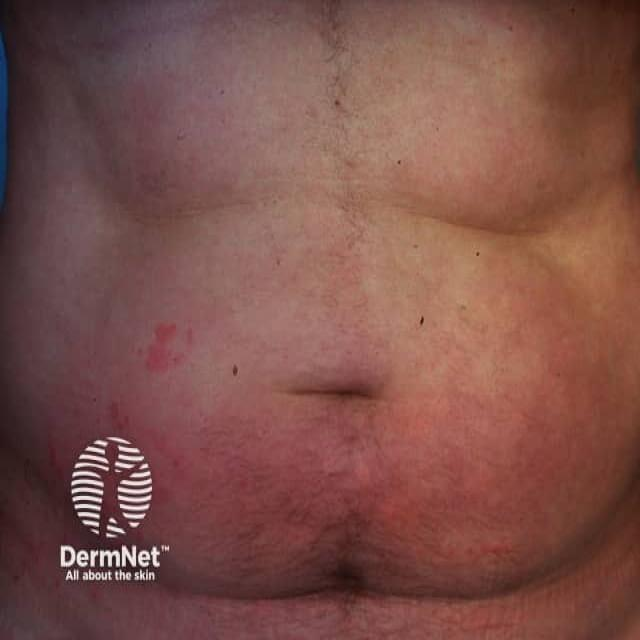Eczema: (102, 278, 614, 590)
